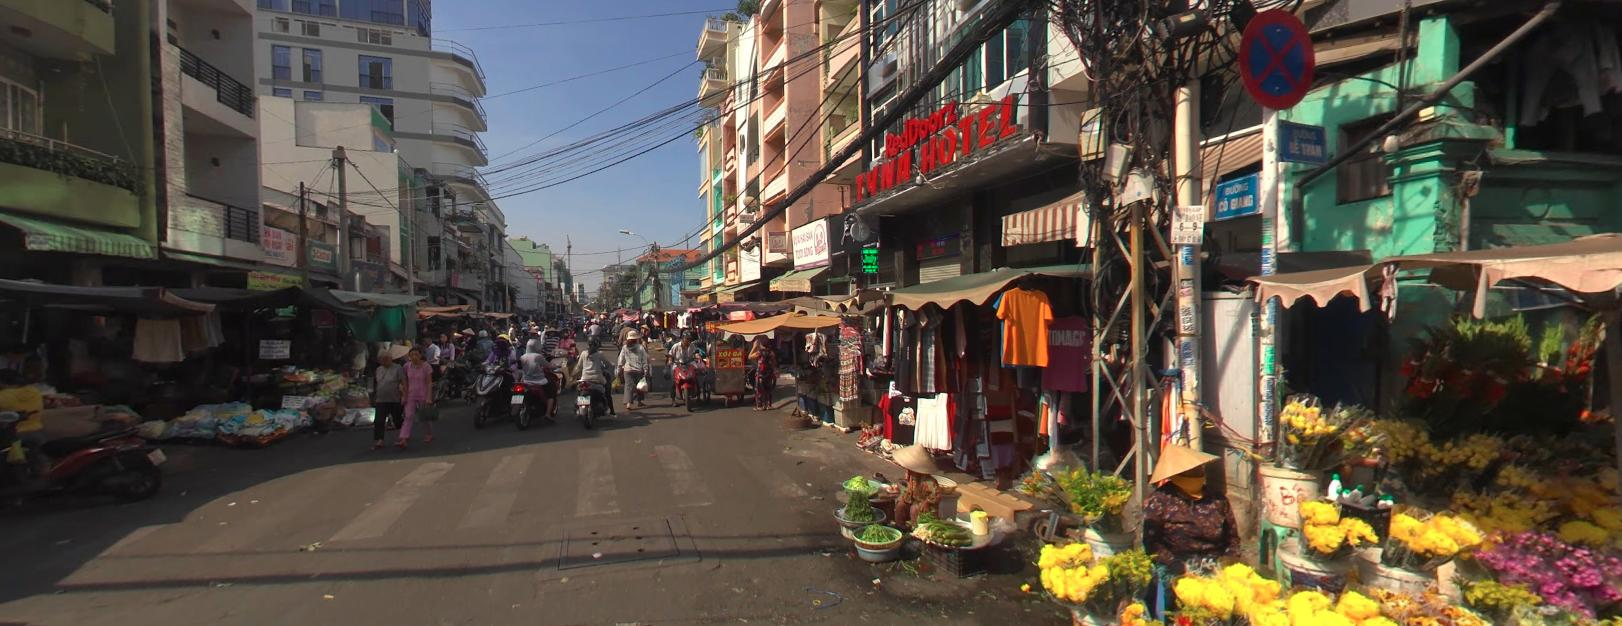Cam dung va do: (1235, 4, 1315, 111)
